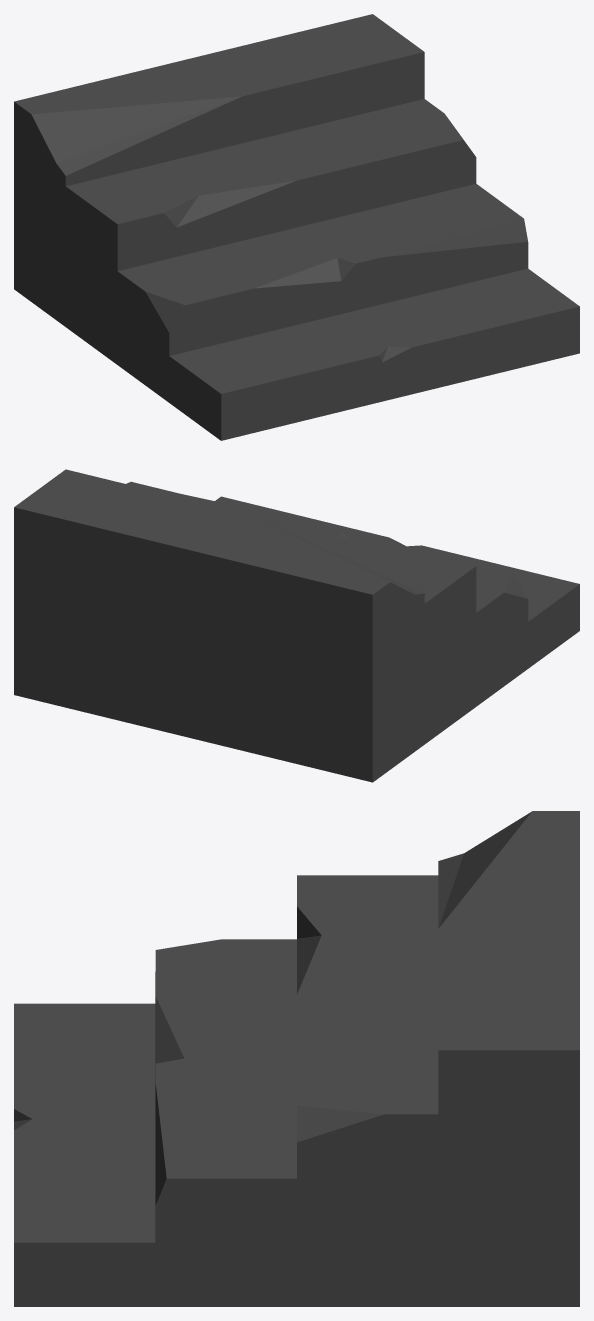
The model's file is Stair_02.fbx.
3 renders of one model, top to bottom at view 1: azimuth 30°, elevation 25°; view 2: azimuth 150°, elevation 25°; view 3: azimuth 270°, elevation 25°, orthographic. The views are drawn at different scales.
Parts seen in each view (by area): view 1: Stair_02; view 2: Stair_02; view 3: Stair_02.
Boxes of the visible parts, x1,y1,x2,y2 form: Stair_02: (14,14,579,440); Stair_02: (14,469,579,782); Stair_02: (14,811,579,1306).
Size of the model in its own units: 400 by 200 by 400.
Materials: 1 (1 with a texture image).
